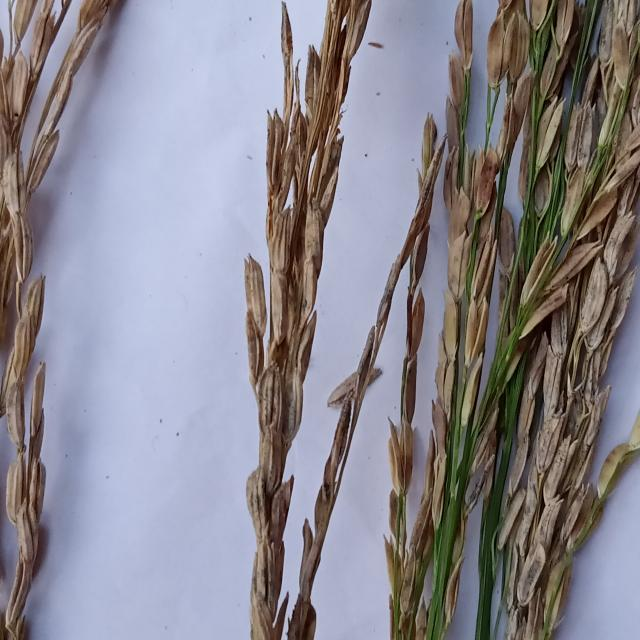Neck_Blast: (490, 0, 640, 640), (239, 0, 378, 638), (287, 118, 443, 640), (0, 0, 126, 640), (441, 0, 544, 366)
